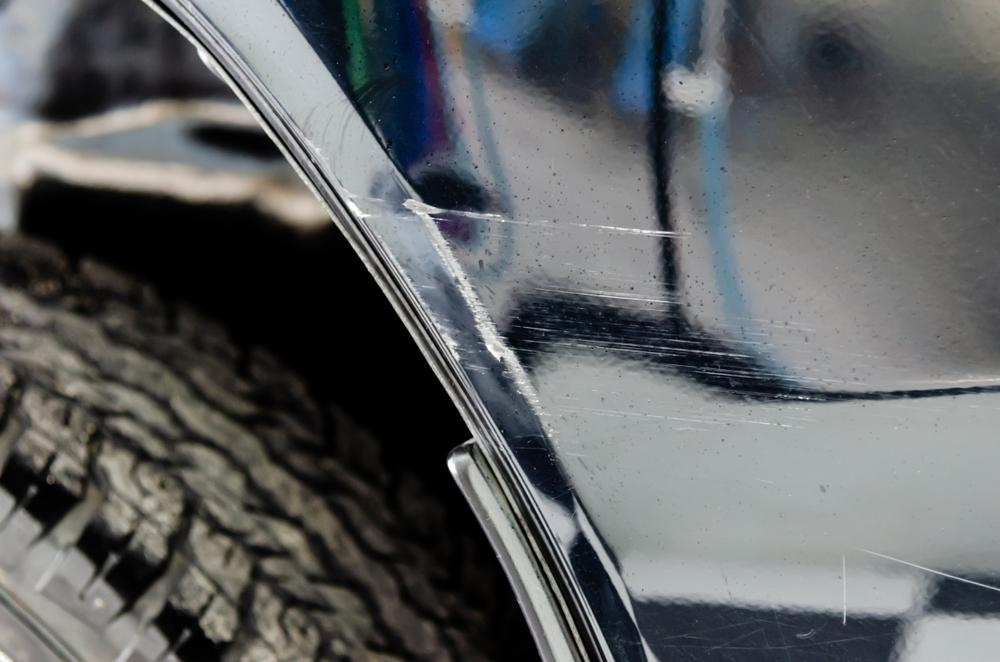scratch: (341, 185, 862, 439)
